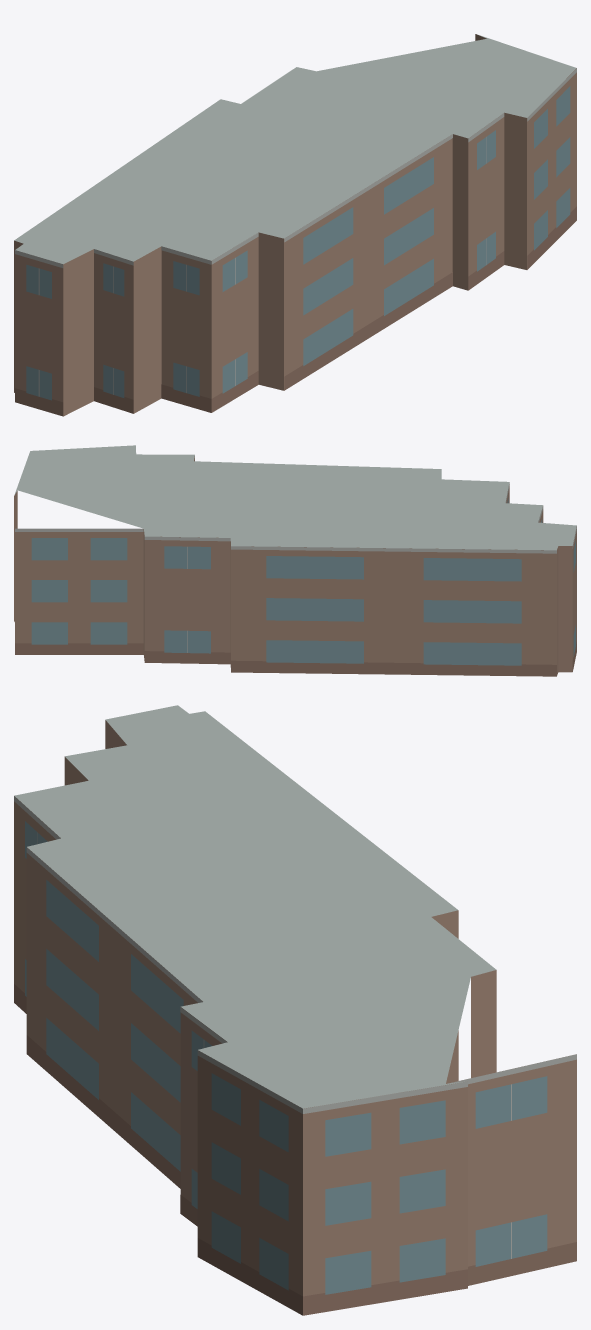
The model's file is survey-upis-33045874.glb.
3 views of the same model, one above another, from view 1: azimuth 30°, elevation 25°; view 2: azimuth 150°, elevation 25°; view 3: azimuth 270°, elevation 25° (orthographic). The views are drawn at different scales.
Parts seen in each view (by area): view 1: survey-upis-33045874.tmp; view 2: survey-upis-33045874.tmp; view 3: survey-upis-33045874.tmp.
Part boxes in pixels (x1,y1,x2,y2): survey-upis-33045874.tmp: [14, 34, 576, 416]; survey-upis-33045874.tmp: [14, 445, 576, 676]; survey-upis-33045874.tmp: [14, 705, 576, 1315].
Bounding box in the file's own units: 38.24 × 9.15 × 22.54.
